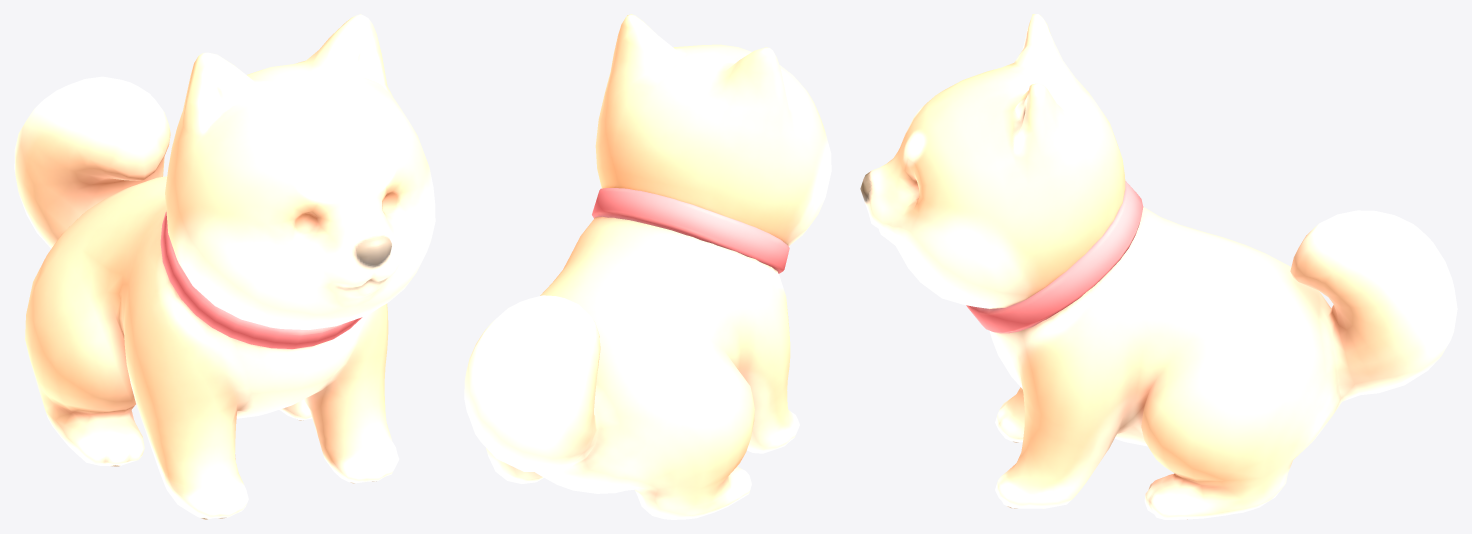
Rendered from shiba.gltf.
3 renders of one model, left to right at view 1: azimuth 30°, elevation 25°; view 2: azimuth 150°, elevation 25°; view 3: azimuth 270°, elevation 25°, orthographic. The views are drawn at different scales.
Parts seen in each view (by area): view 1: Box002_default_0; view 2: Box002_default_0; view 3: Box002_default_0.
Boxes of the visible parts, bbox=[...] form: Box002_default_0: bbox=[14, 14, 435, 519]; Box002_default_0: bbox=[464, 14, 831, 519]; Box002_default_0: bbox=[860, 14, 1457, 519].
Bounding box in the file's own units: 0.9209 × 1.38 × 1.77.
